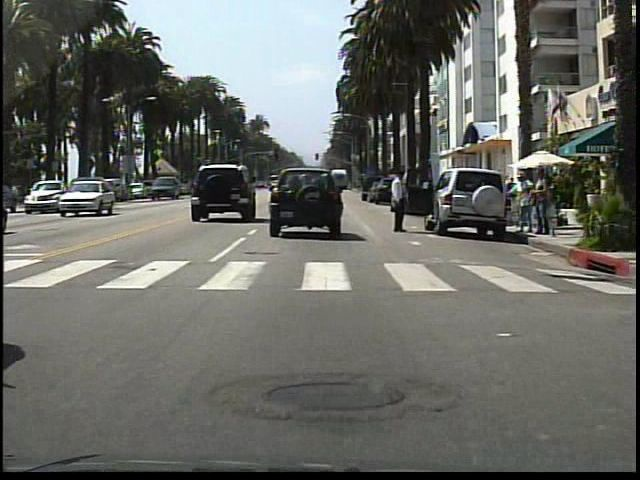person: (387, 162, 416, 236), (509, 166, 533, 237), (532, 166, 553, 240)
